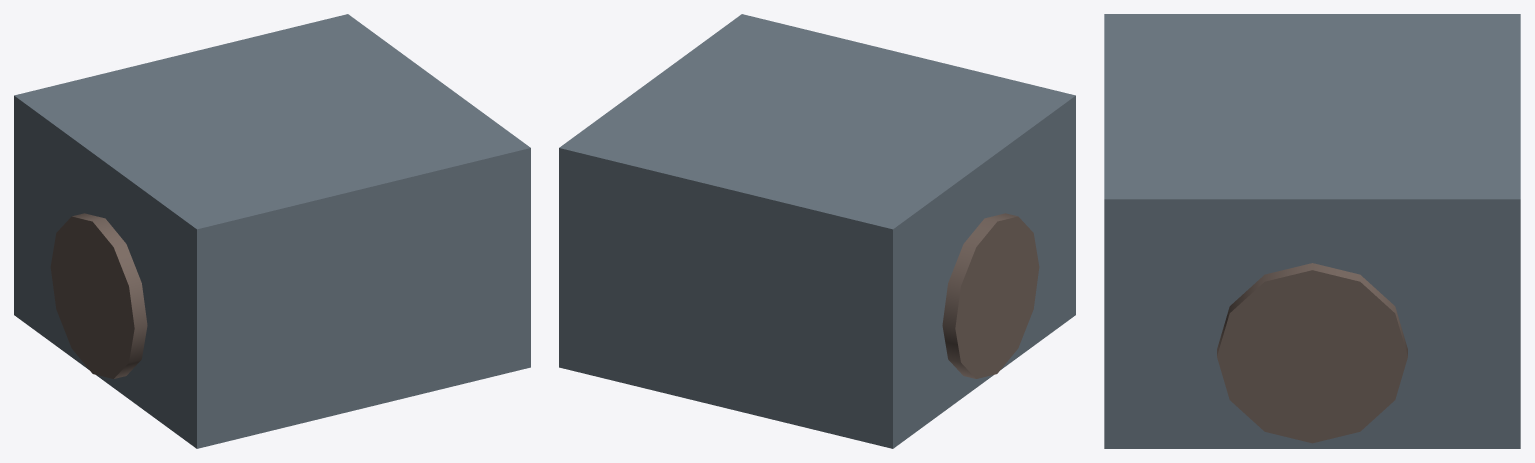
Rendered from mars_descent_stage.winch.glb.
3 renders of one model, left to right at view 1: azimuth 30°, elevation 25°; view 2: azimuth 150°, elevation 25°; view 3: azimuth 270°, elevation 25°, orthographic. The views are drawn at different scales.
Visible parts, largest first — view 1: mars_descent_stage.winch.mesh_Machined_steel, mars_descent_stage.winch.mesh_Heat-stained_alloy; view 2: mars_descent_stage.winch.mesh_Machined_steel, mars_descent_stage.winch.mesh_Heat-stained_alloy; view 3: mars_descent_stage.winch.mesh_Machined_steel, mars_descent_stage.winch.mesh_Heat-stained_alloy.
Boxes of the visible parts, bbox=[...] form: mars_descent_stage.winch.mesh_Machined_steel: bbox=[14, 14, 530, 448]; mars_descent_stage.winch.mesh_Heat-stained_alloy: bbox=[50, 213, 147, 378]; mars_descent_stage.winch.mesh_Machined_steel: bbox=[559, 14, 1075, 448]; mars_descent_stage.winch.mesh_Heat-stained_alloy: bbox=[942, 213, 1039, 378]; mars_descent_stage.winch.mesh_Machined_steel: bbox=[1104, 14, 1520, 448]; mars_descent_stage.winch.mesh_Heat-stained_alloy: bbox=[1217, 263, 1407, 443].
Bounding box in the file's own units: 0.42 × 0.245 × 0.37.
